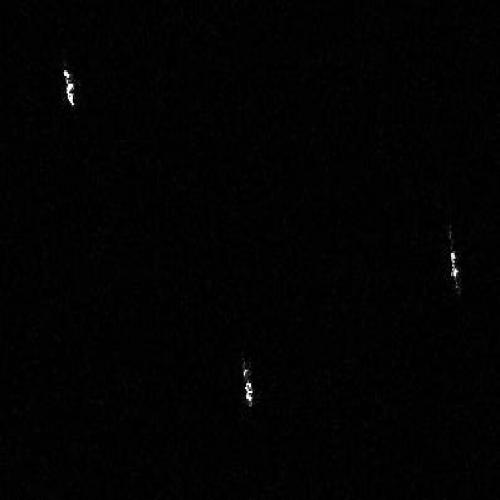ship: (61, 66, 76, 109), (241, 364, 255, 410), (448, 247, 461, 291)
